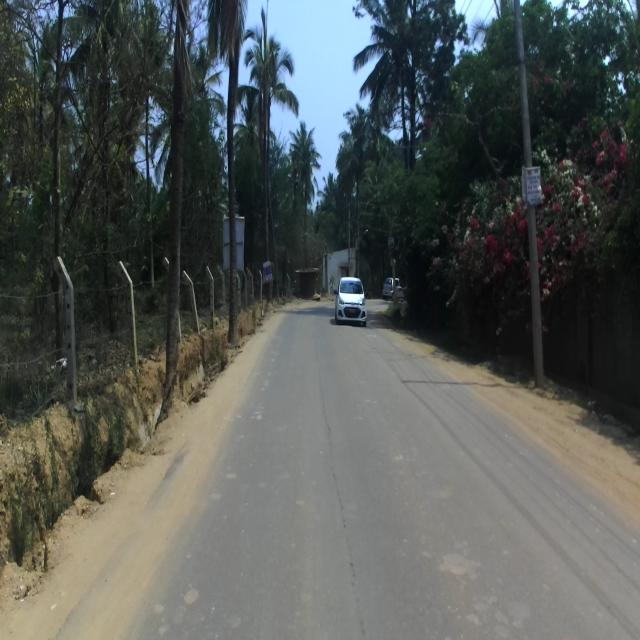car ahead at: (335, 273, 367, 326)
electric pole ahead at: (508, 0, 554, 384)
tree ahead at: (158, 0, 188, 419)
